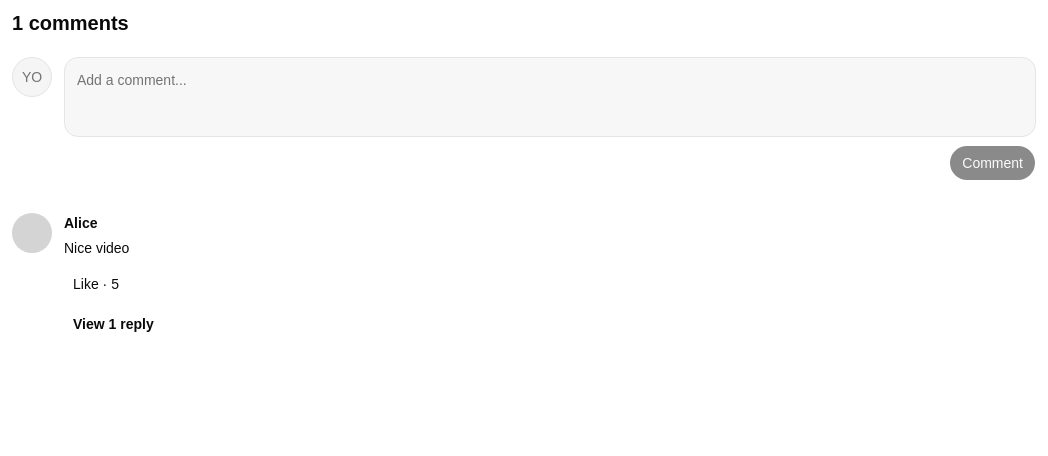
CommentsSection comment likes › can expand and collapse existing replies without rendering a Reply action
Click the button "View 1 reply" at {"x": 113, "y": 324}, box 64,308 -> 163,340
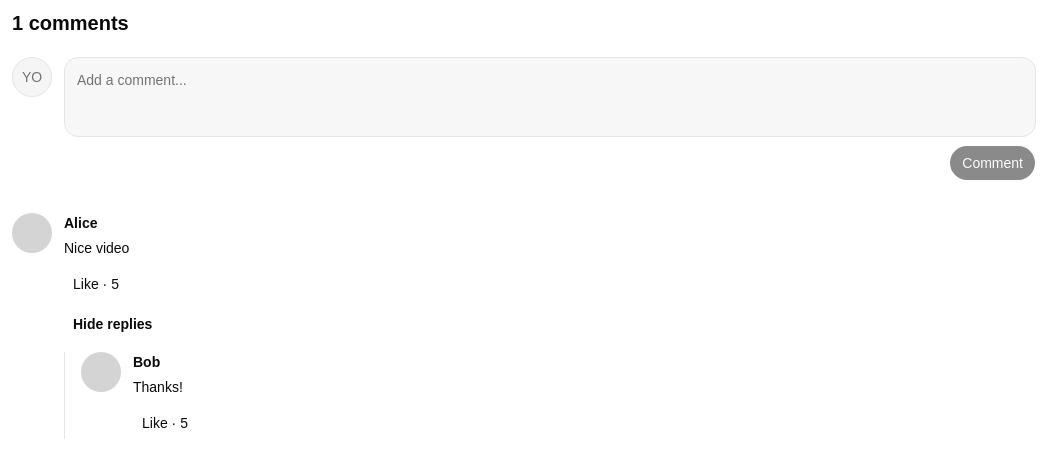
Result: the text "Thanks!" is shown at 133,379 -> 183,395
Result: the button "reply" is gone
Click the button "Hide replies" at {"x": 113, "y": 324}, box 64,308 -> 161,340
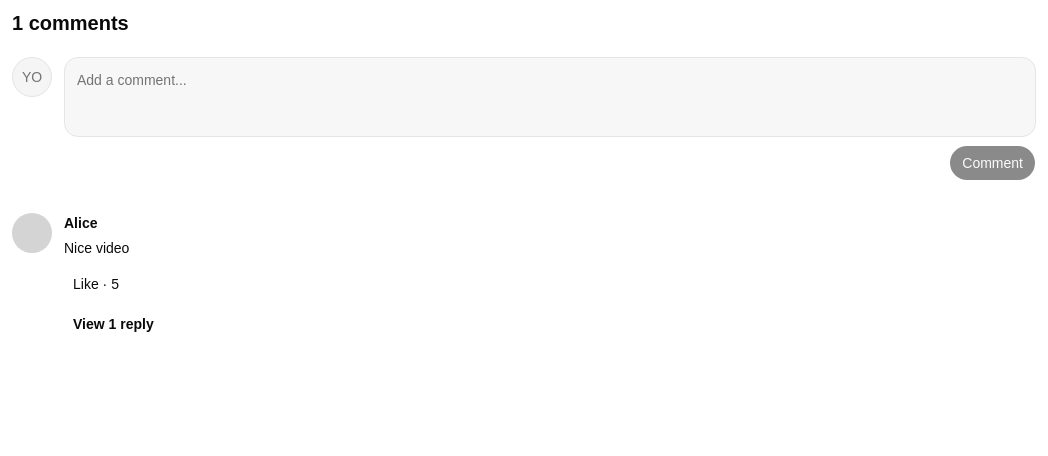
Result: the text "Thanks!" is gone
